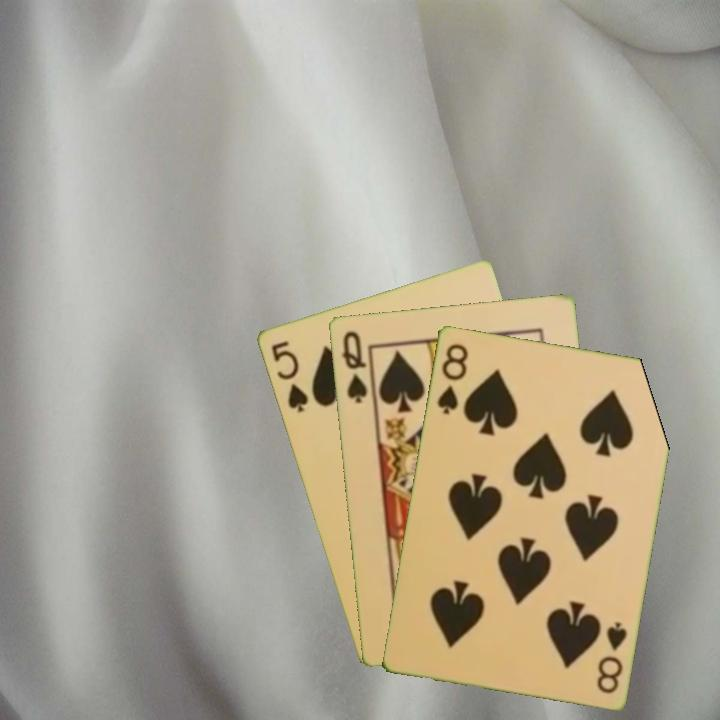5s: (267, 337, 311, 416)
8s: (433, 339, 471, 417), (593, 617, 630, 696)
Qs: (338, 327, 370, 406)
